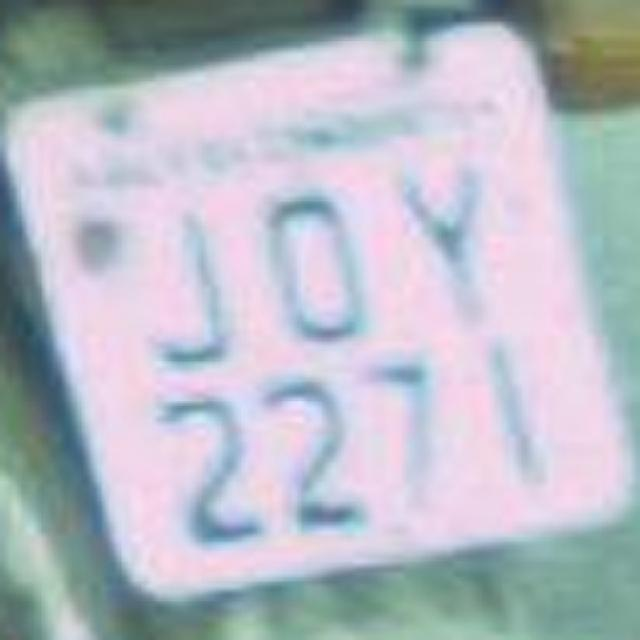0: (248, 164, 384, 356)
1: (460, 316, 568, 516)
2: (232, 355, 388, 540)
3: (124, 369, 288, 556)
7: (348, 340, 464, 520)
J: (120, 184, 252, 384)
Y: (368, 140, 528, 332)
